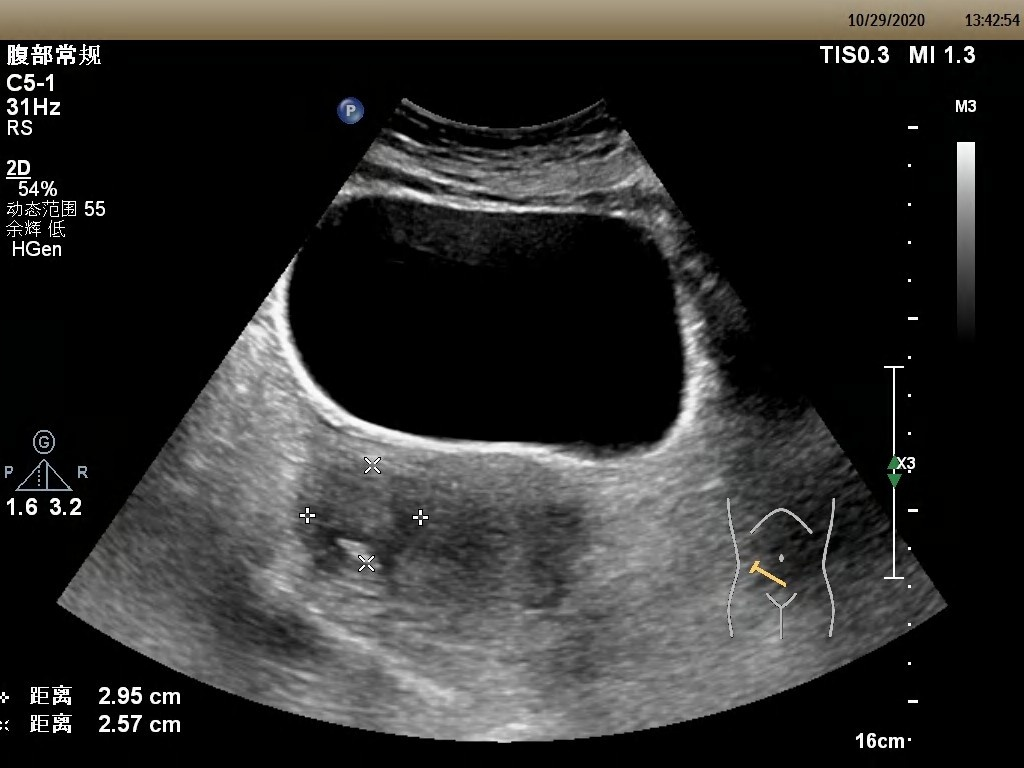肌瘤: (307, 465, 421, 561)
